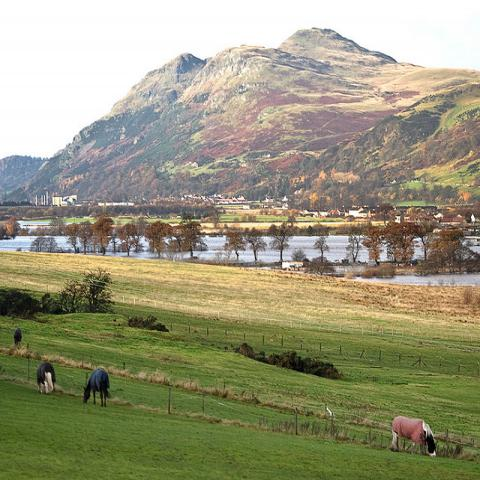car: (331, 260, 340, 266)
